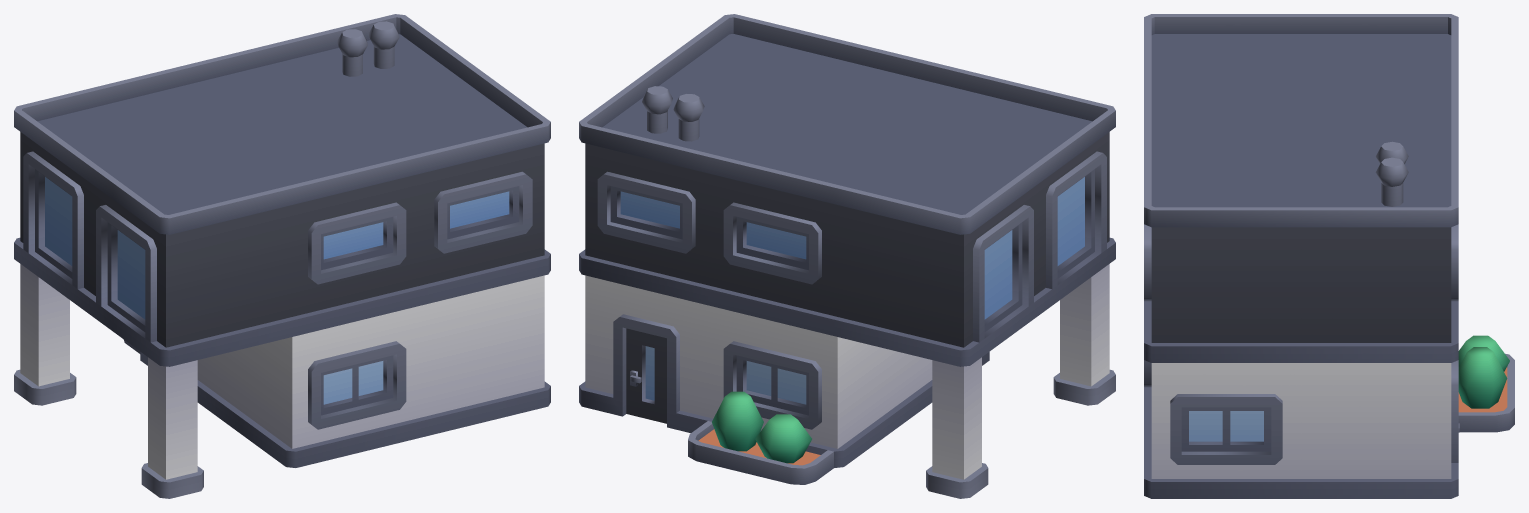
The model's file is house_suburb_p.glb.
3 views of the same model, side by side, from view 1: azimuth 30°, elevation 25°; view 2: azimuth 150°, elevation 25°; view 3: azimuth 270°, elevation 25° (orthographic). The views are drawn at different scales.
Parts seen in each view (by area): view 1: building-type-p; view 2: building-type-p; view 3: building-type-p.
Boxes of the visible parts, x1,y1,x2,y2 form: building-type-p: [14, 14, 550, 498]; building-type-p: [579, 14, 1115, 498]; building-type-p: [1144, 14, 1514, 498].
Bounding box in the file's own units: 1.24 × 0.918 × 0.9901.
1 material, 1 textured.
